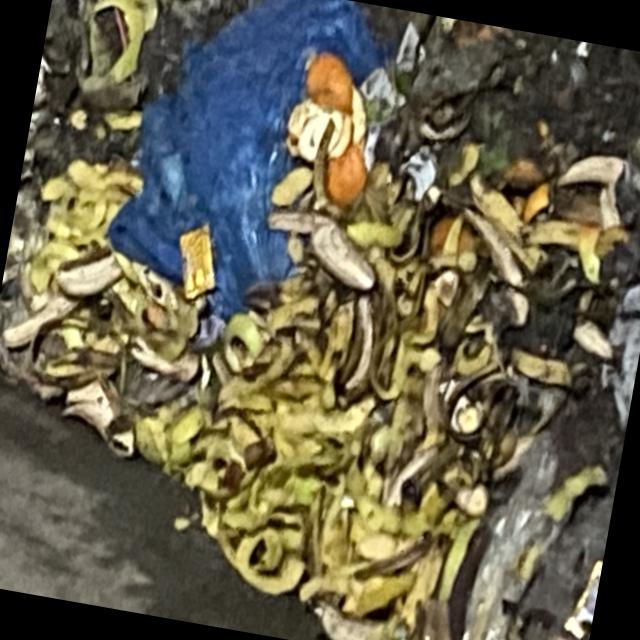paper: (266, 19, 402, 200), (258, 187, 394, 319), (211, 463, 322, 597)
